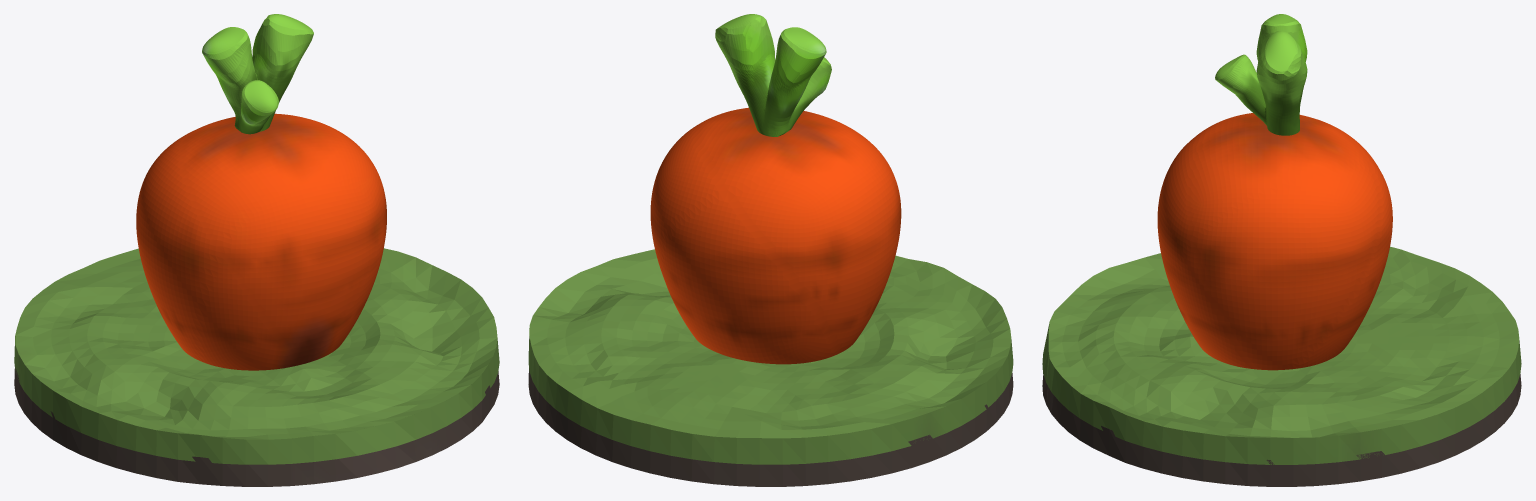
File: Restaurant.fbx
The picture shows the model from 3 angles, left to right: view 1: azimuth 30°, elevation 25°; view 2: azimuth 150°, elevation 25°; view 3: azimuth 270°, elevation 25°; orthographic projection.
Parts seen in each view (by area): view 1: gass, Sphere, ground, Lights; view 2: gass, Sphere, ground, Lights; view 3: gass, Sphere, ground, Lights.
Boxes of the visible parts, bbox=[...] form: gass: bbox=[14, 248, 499, 464]; Sphere: bbox=[136, 113, 386, 370]; ground: bbox=[14, 368, 499, 486]; Lights: bbox=[202, 14, 313, 134]; gass: bbox=[528, 249, 1013, 464]; Sphere: bbox=[650, 107, 901, 364]; ground: bbox=[528, 368, 1013, 486]; Lights: bbox=[715, 14, 831, 136]; gass: bbox=[1042, 246, 1521, 464]; Sphere: bbox=[1157, 113, 1392, 370]; ground: bbox=[1042, 374, 1521, 486]; Lights: bbox=[1215, 14, 1307, 135].
Size of the model in its own units: 162 by 136 by 162.
4 materials, 4 textured.
